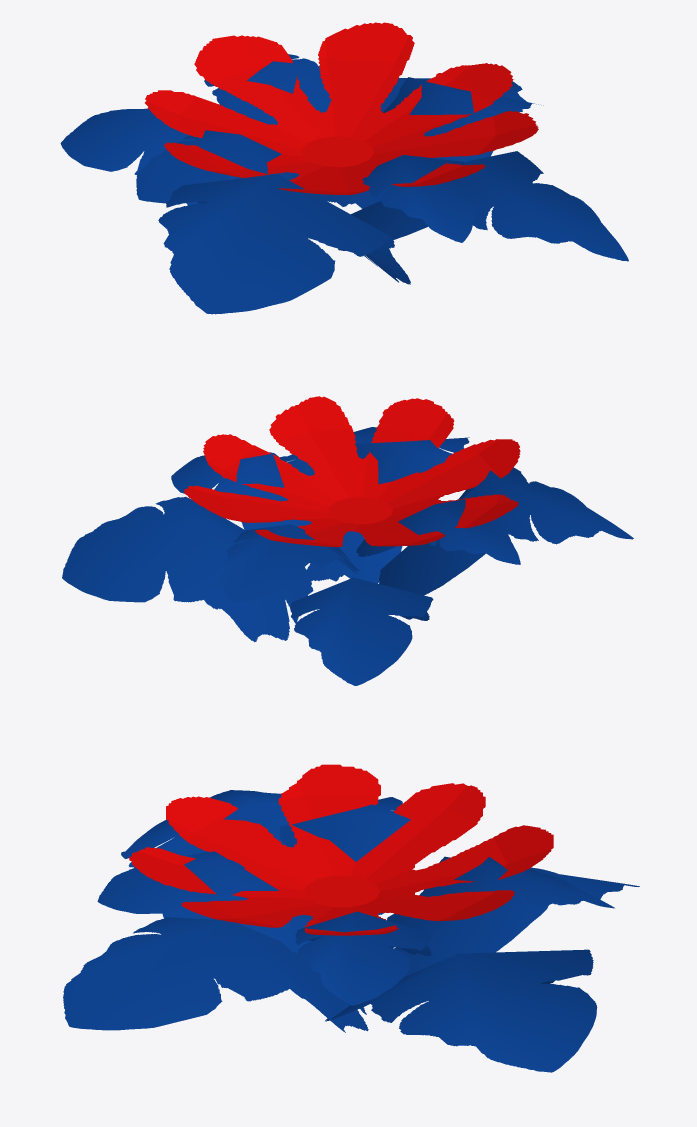
Rendered from SM_FloorFlower2 1.fbx.
3 renders of one model, top to bottom at view 1: azimuth 30°, elevation 25°; view 2: azimuth 150°, elevation 25°; view 3: azimuth 270°, elevation 25°, orthographic. The views are drawn at different scales.
Visible parts, largest first — view 1: Circle004; view 2: Circle004; view 3: Circle004.
Boxes of the visible parts, x1=… form: Circle004: x1=60, y1=22, x2=628, y2=314; Circle004: x1=62, y1=396, x2=633, y2=685; Circle004: x1=63, y1=764, x2=639, y2=1072.
Bounding box in the file's own units: 30.04 × 7.78 × 31.36.
